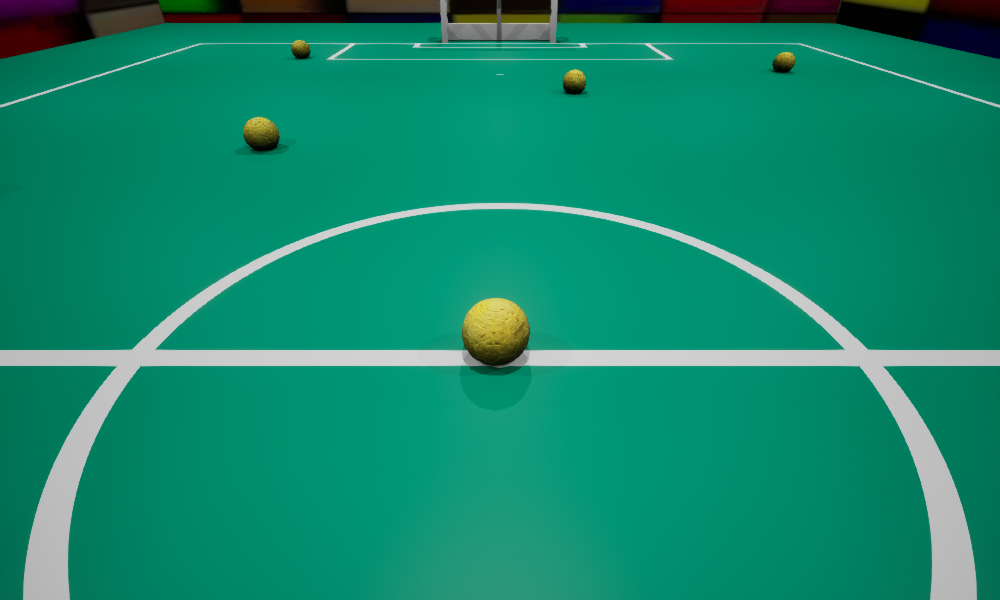b: (462, 298, 529, 365), (243, 117, 279, 150), (563, 69, 585, 93), (772, 52, 795, 72), (291, 40, 310, 58)
g: (440, 0, 557, 42)
